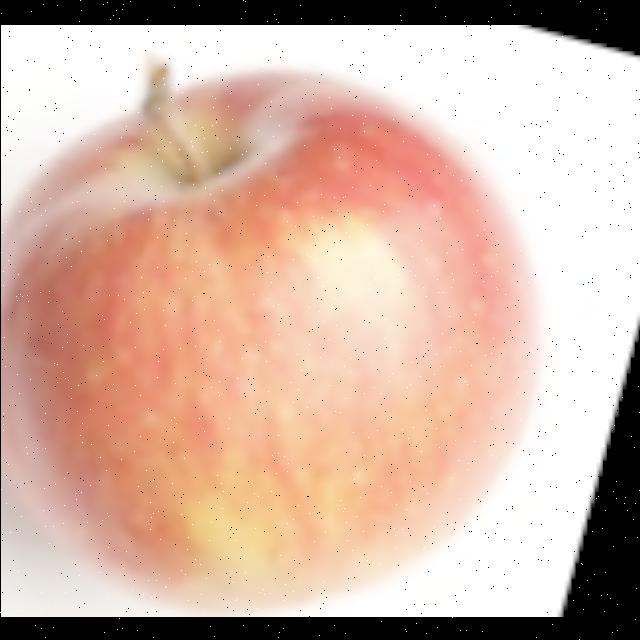Apel Segar: (1, 44, 554, 616)
